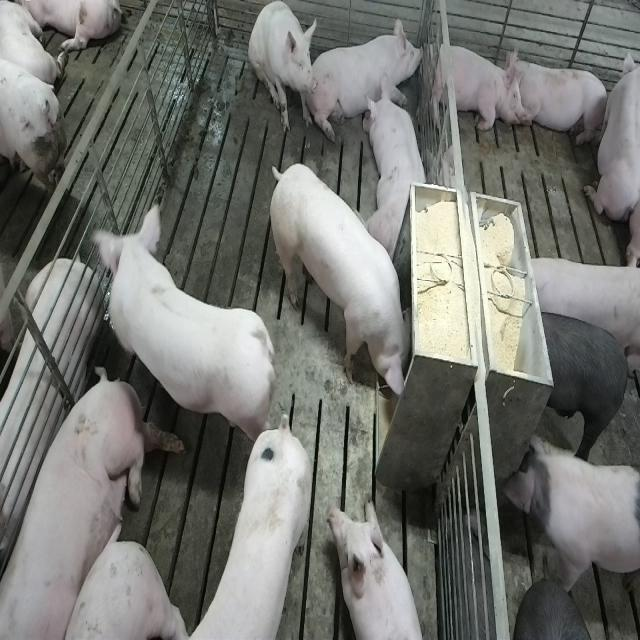Feeding: (272, 162, 421, 404)
Lateral_lying: (0, 369, 177, 640), (0, 256, 99, 574)
Sitting: (249, 2, 319, 136)
Standing: (92, 197, 279, 475), (178, 421, 318, 640), (521, 438, 639, 610), (536, 304, 632, 455), (523, 258, 637, 358), (516, 576, 606, 638)
Sternal_lying: (318, 11, 432, 140), (330, 499, 430, 640), (366, 80, 431, 258), (583, 40, 637, 229), (510, 51, 610, 148), (425, 36, 522, 135)
